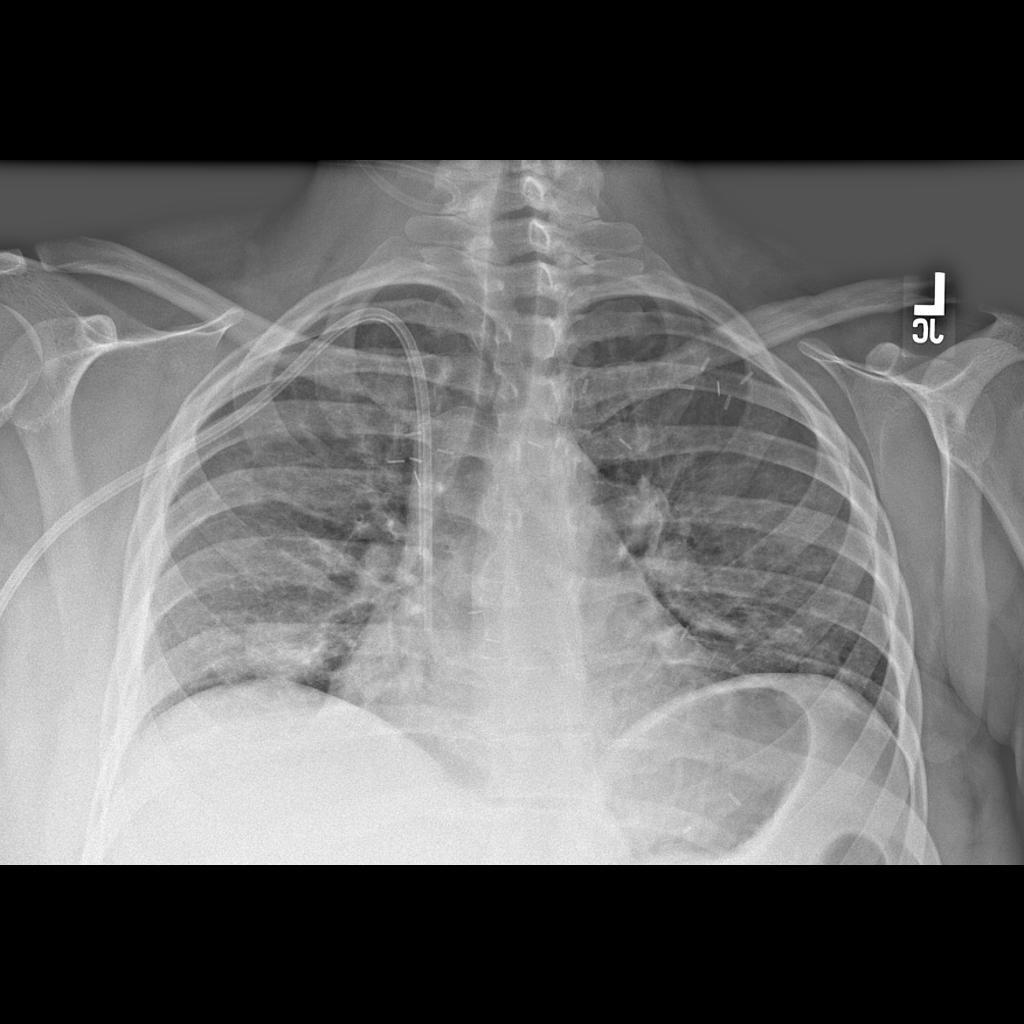Nodule: (237, 593, 329, 686)
